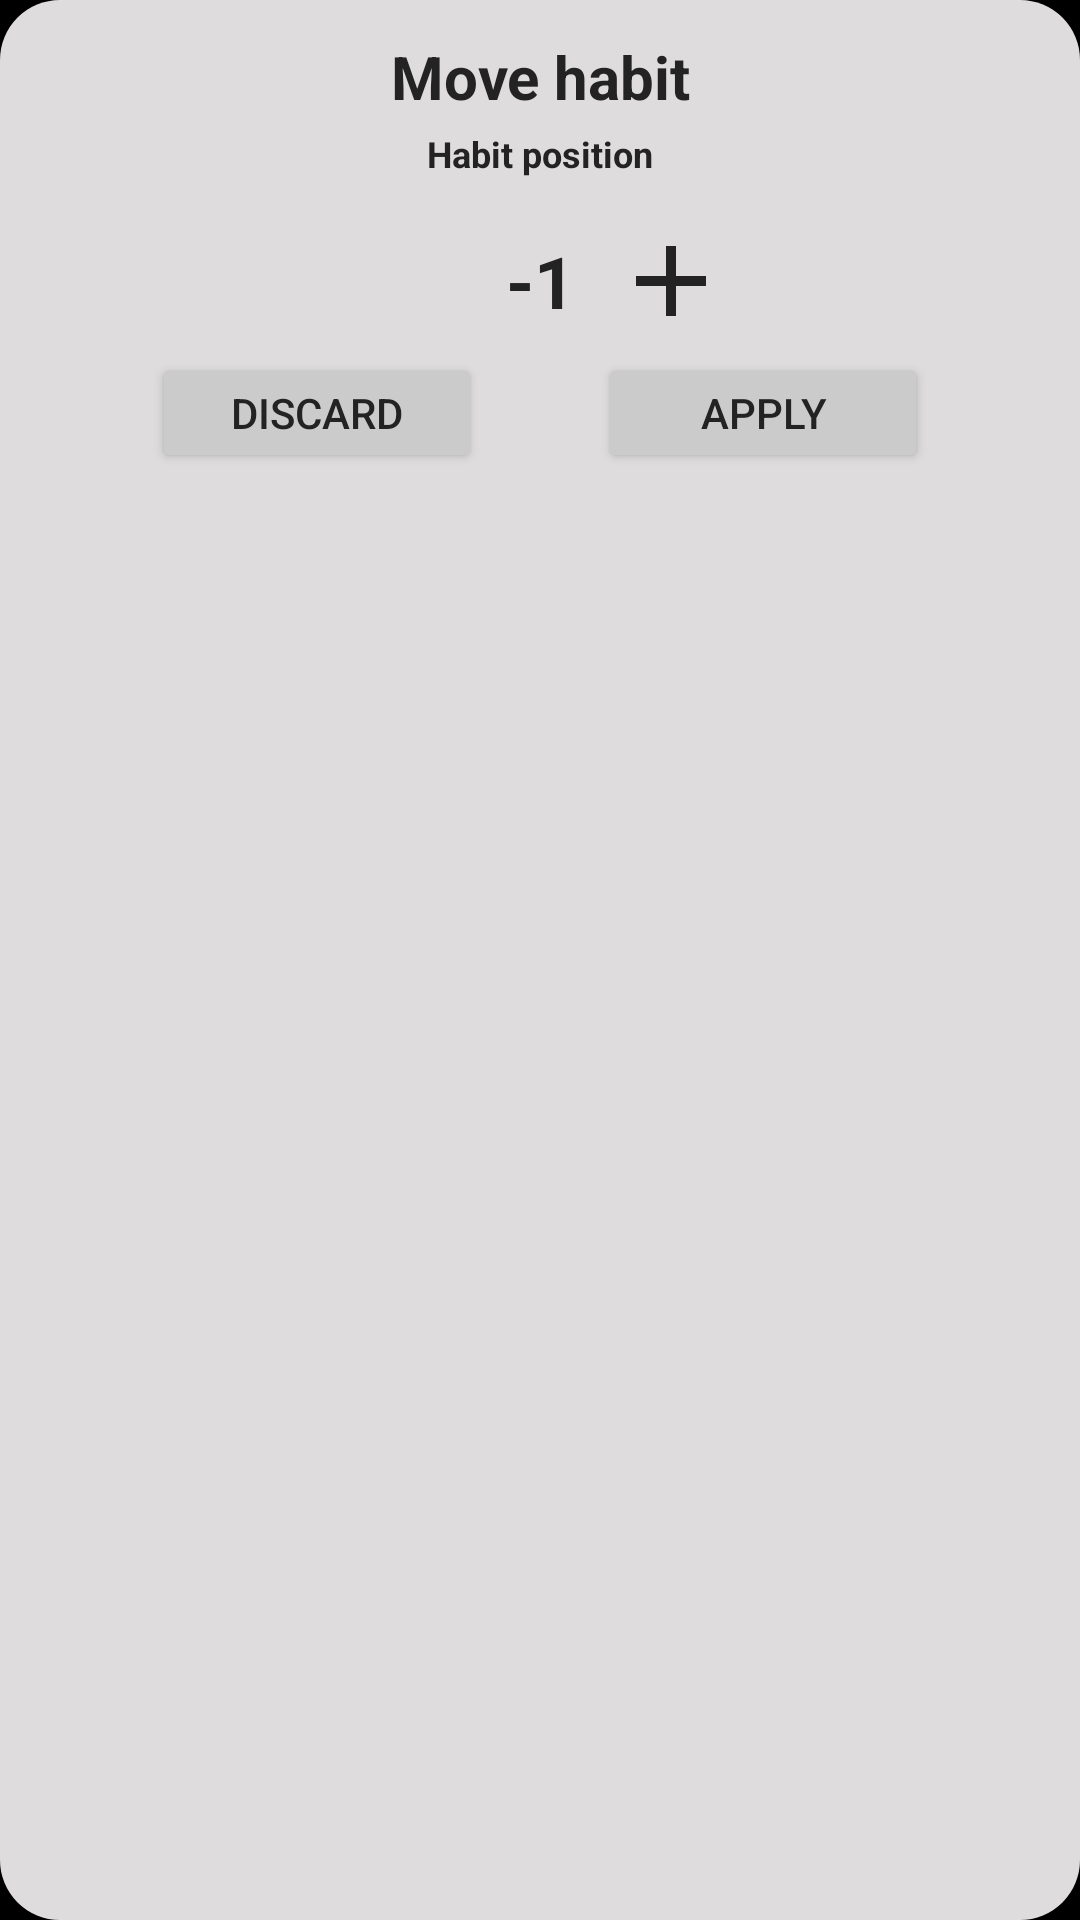

Screen size 1080px×1920px. Icon name, then its center in pixels as (x,y):
add: (671,281)
